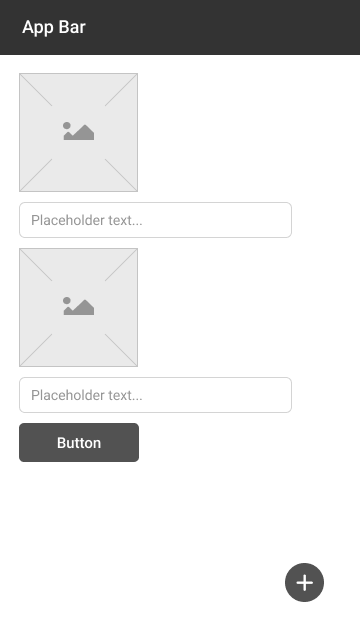button: (17, 421, 140, 463)
editText: (17, 375, 294, 415), (18, 201, 294, 240)
floatingButton: (284, 562, 326, 603)
imageView: (16, 71, 141, 195), (17, 245, 141, 369)
toolbar: (1, 1, 360, 55)
